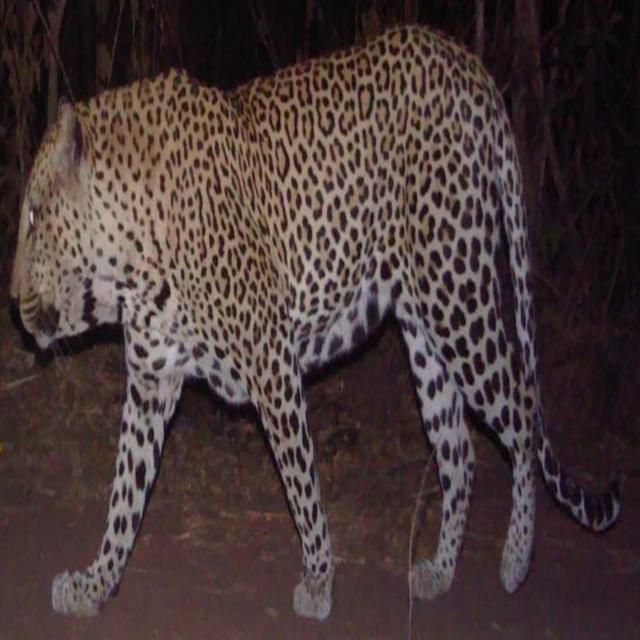Leopard: (1, 24, 612, 640)
